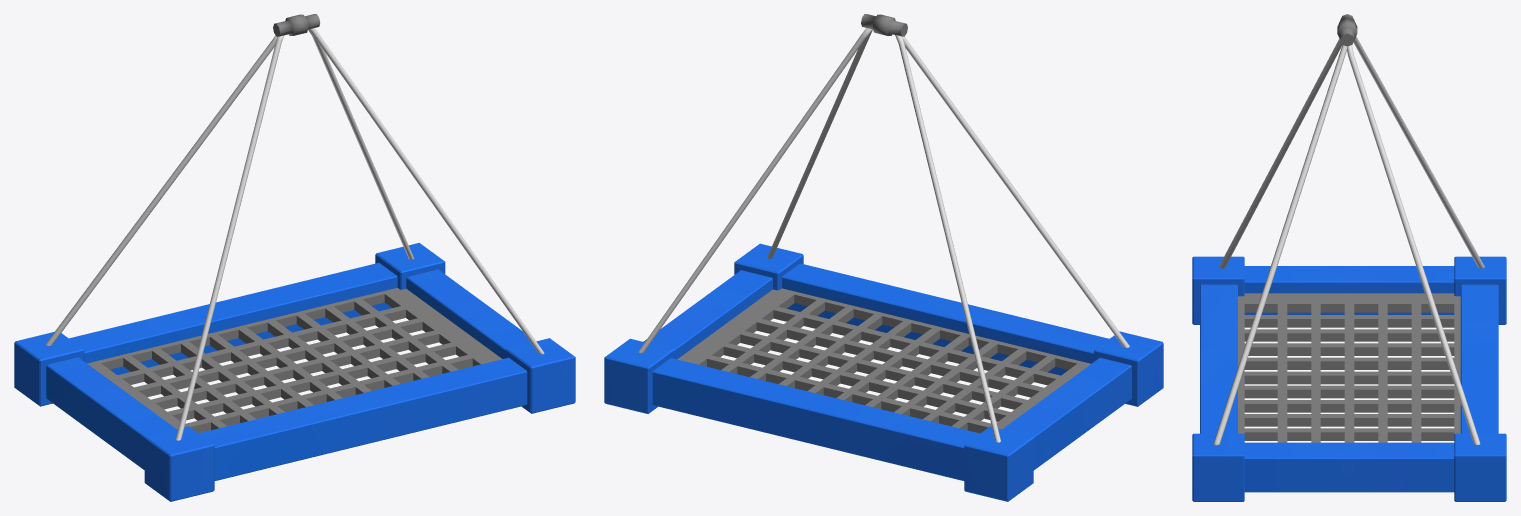
The model's file is HangingPlatformBlue.fbx.
3 renders of one model, left to right at view 1: azimuth 30°, elevation 25°; view 2: azimuth 150°, elevation 25°; view 3: azimuth 270°, elevation 25°, orthographic.
Parts seen in each view (by area): view 1: Cube.003, Grate, Cylinder, HangingPlatform; view 2: Cube.003, Grate, Cylinder, HangingPlatform; view 3: Cube.003, Grate, Cylinder, HangingPlatform.
Boxes of the visible parts, x1=… form: Cube.003: x1=14, y1=242, x2=575, y2=501; Grate: x1=87, y1=288, x2=502, y2=433; Cylinder: x1=45, y1=28, x2=544, y2=440; HangingPlatform: x1=273, y1=14, x2=320, y2=36; Cube.003: x1=604, y1=243, x2=1163, y2=501; Grate: x1=677, y1=288, x2=1090, y2=433; Cylinder: x1=638, y1=28, x2=1129, y2=442; HangingPlatform: x1=861, y1=14, x2=907, y2=36; Cube.003: x1=1192, y1=256, x2=1506, y2=501; Grate: x1=1238, y1=293, x2=1460, y2=442; Cylinder: x1=1213, y1=36, x2=1484, y2=445; HangingPlatform: x1=1337, y1=14, x2=1357, y2=46.
Bounding box in the file's own units: 5.62 × 5.03 × 3.75.
